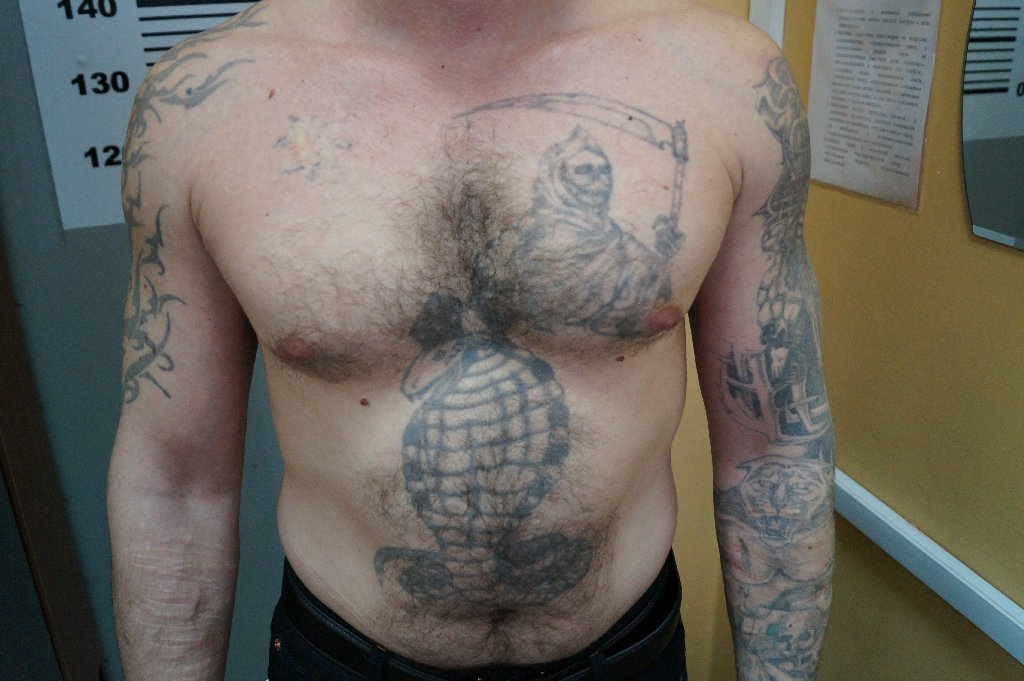tatu7_zmeya: (381, 300, 622, 611)
